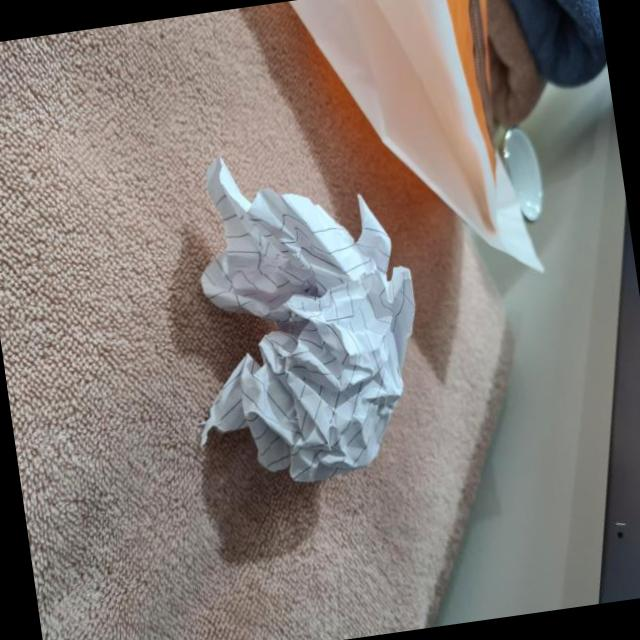cardboard paper: (202, 160, 416, 483), (291, 0, 543, 273)
